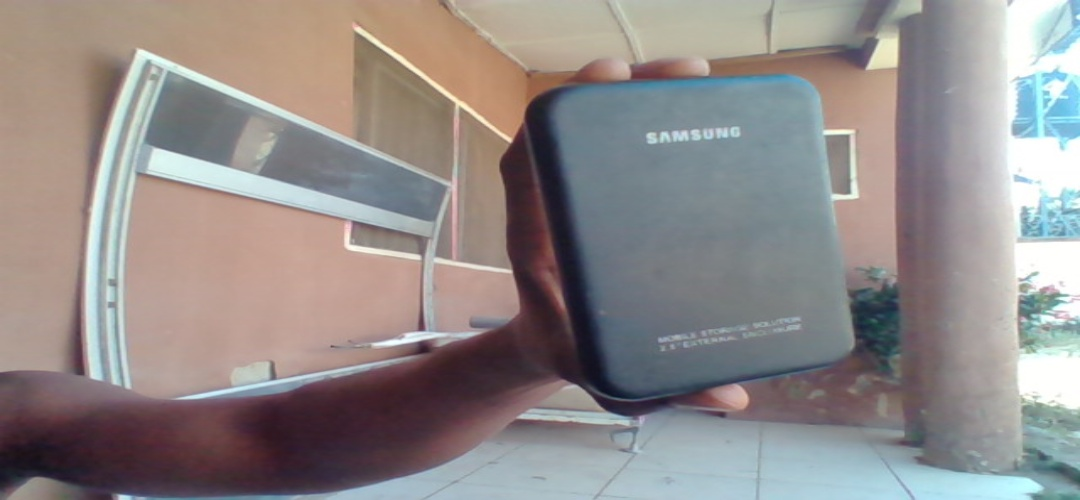hard_disk_case: (527, 82, 860, 392)
